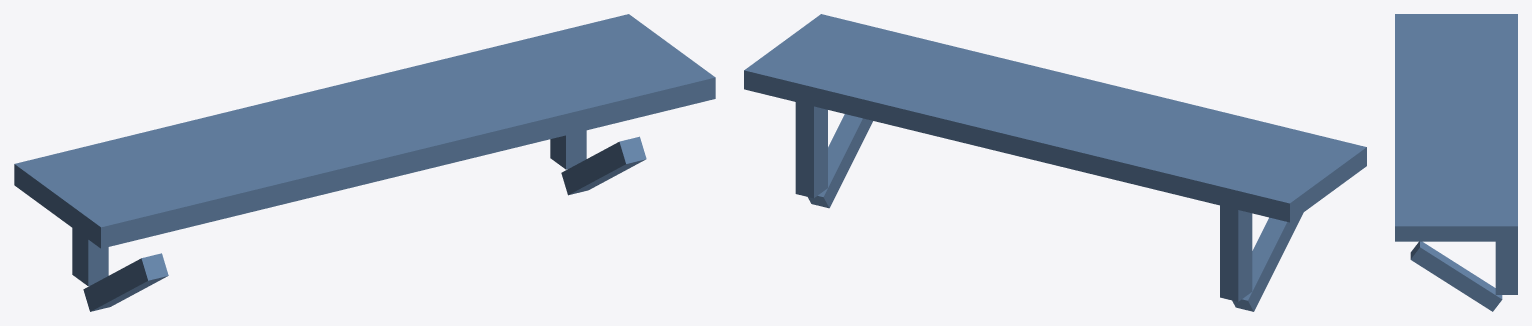
File: Shelf_Wall.fbx
3 renders of one model, left to right at view 1: azimuth 30°, elevation 25°; view 2: azimuth 150°, elevation 25°; view 3: azimuth 270°, elevation 25°, orthographic. The views are drawn at different scales.
Visible parts, largest first — view 1: Shelf_Wall; view 2: Shelf_Wall; view 3: Shelf_Wall.
Part boxes in pixels (x1=…): Shelf_Wall: x1=14, y1=14, x2=715, y2=311; Shelf_Wall: x1=744, y1=14, x2=1366, y2=311; Shelf_Wall: x1=1395, y1=14, x2=1517, y2=311.
Size of the model in its own units: 0.9 by 0.2089 by 0.22.
Materials: 1 (1 with a texture image).
